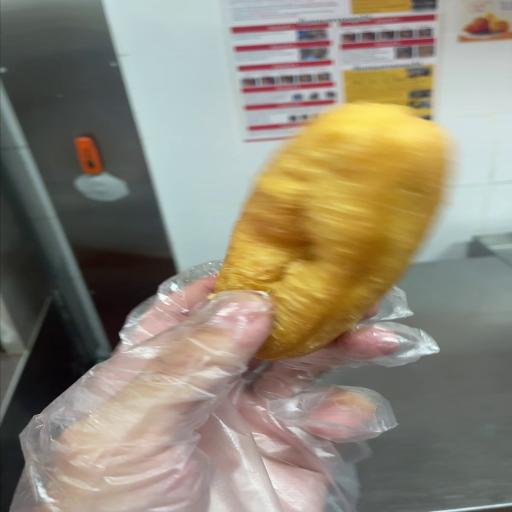brand_golden_defect: (215, 103, 448, 360)
